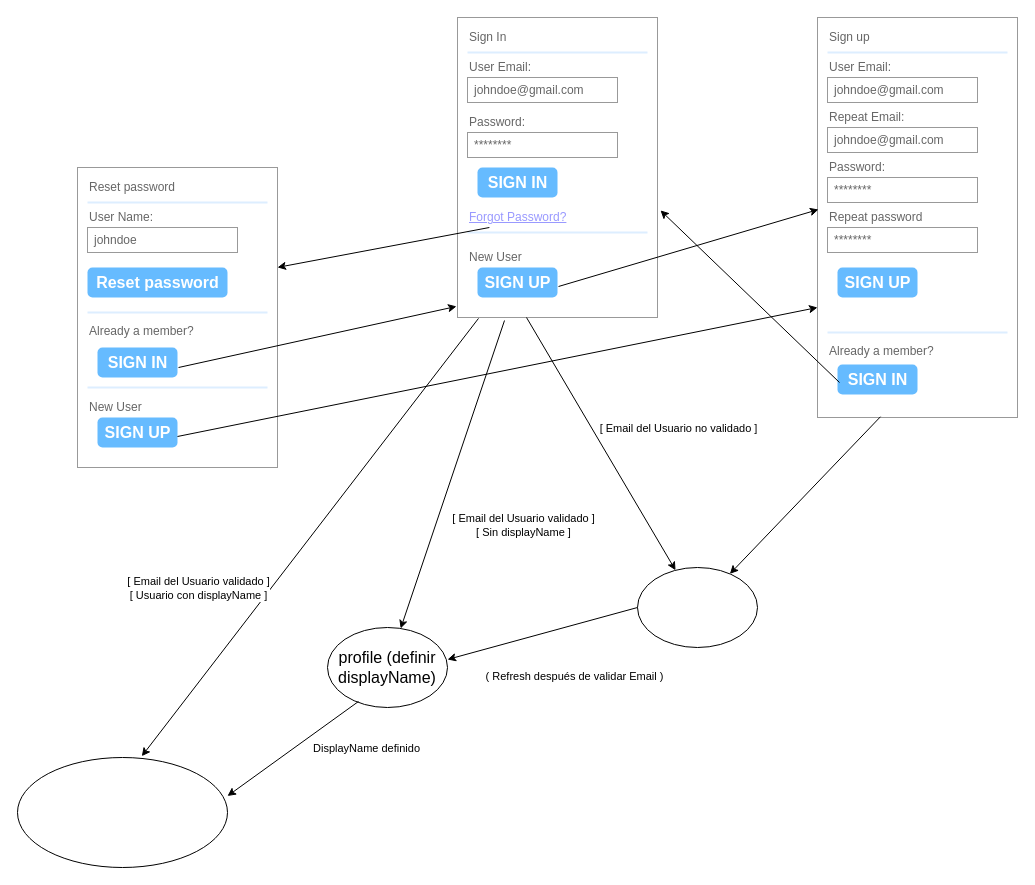
The diagram is 1035 pixels wide and 885 high, and some of its shapes have lost their labels. Each missing label, with the centre of its shape:
Pantalla de inicio de la aplicación: (122,812)
profile (locked): (697,607)
